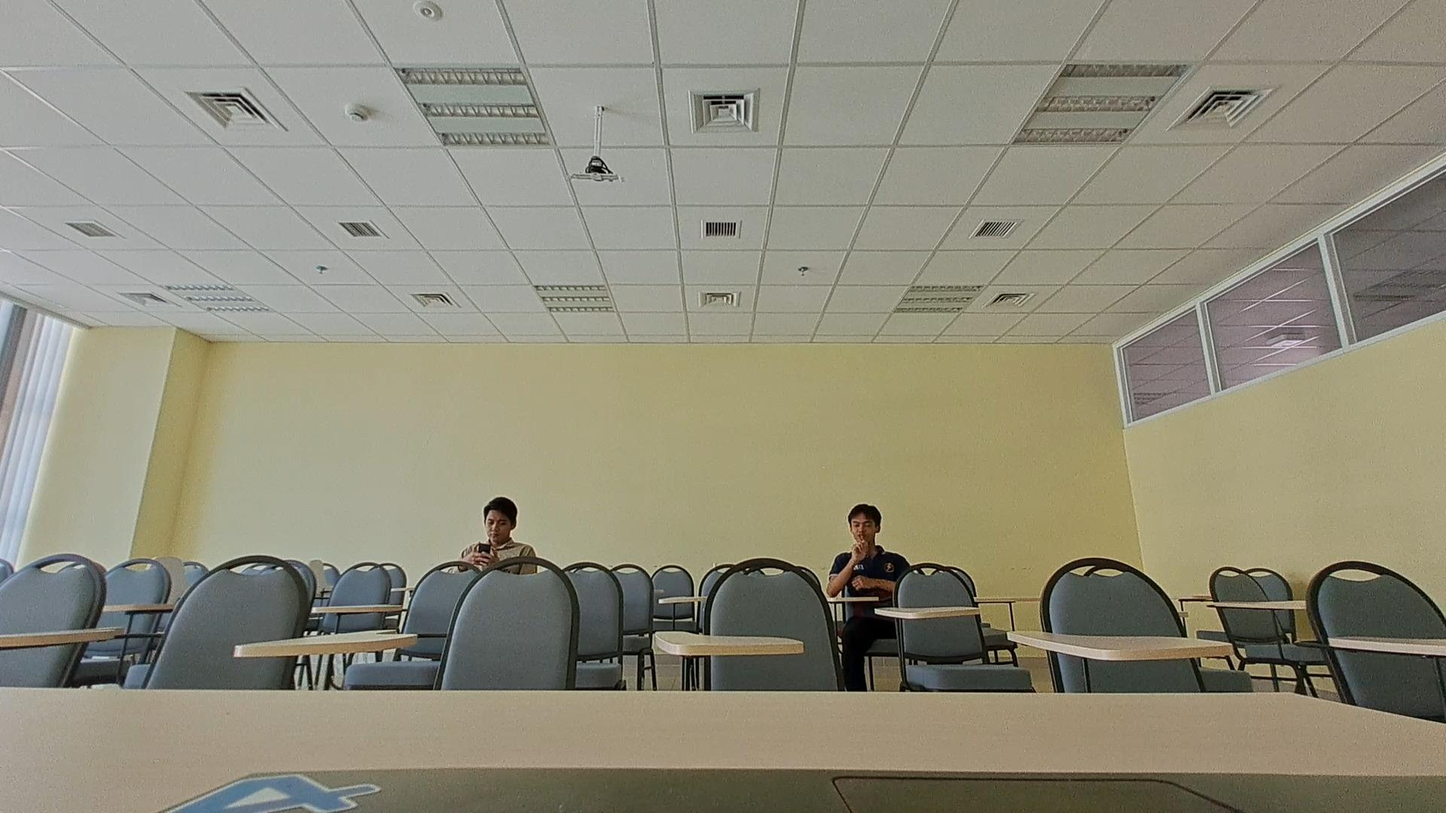phone: (457, 496, 536, 579)
study: (825, 503, 913, 598)
